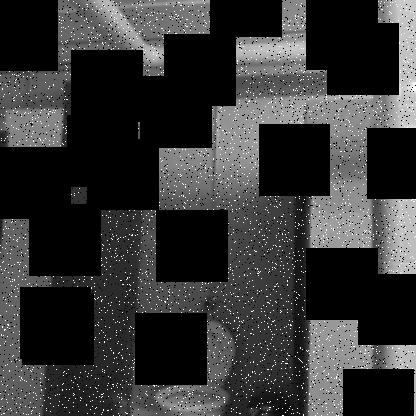Porte: (42, 78, 315, 415)
